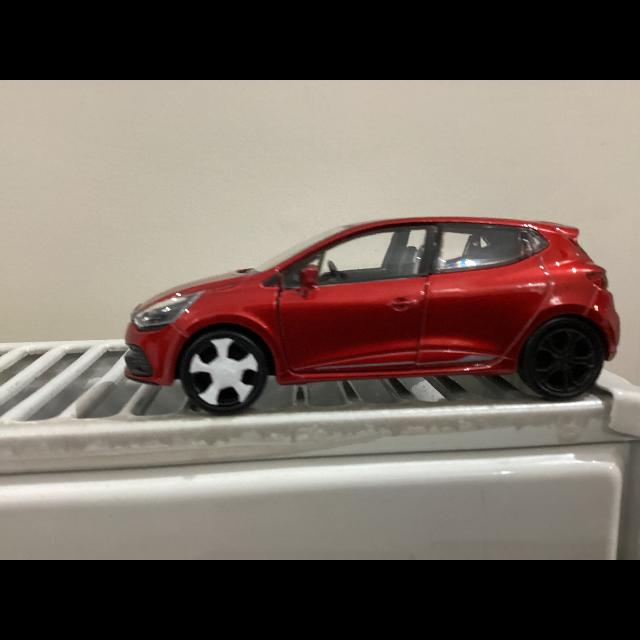Dogru_Jant: (532, 327, 598, 391)
Yanlis_Jant: (188, 338, 260, 408)
